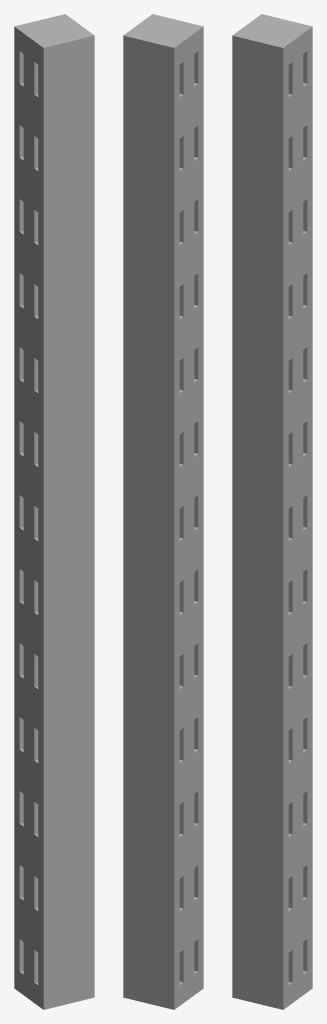
Rendered from Shelf_01_Support.glb.
3 renders of one model, left to right at view 1: azimuth 30°, elevation 25°; view 2: azimuth 150°, elevation 25°; view 3: azimuth 330°, elevation 25°, orthographic.
Parts seen in each view (by area): view 1: Mesh_Shelf_01_Support; view 2: Mesh_Shelf_01_Support; view 3: Mesh_Shelf_01_Support.
Part boxes in pixels (x1,y1,x2,y2): Mesh_Shelf_01_Support: (14,14,94,1009); Mesh_Shelf_01_Support: (123,14,203,1009); Mesh_Shelf_01_Support: (232,14,312,1009).
Bounding box in the file's own units: 0.1 × 1.8 × 0.1.
1 material, 1 textured.
